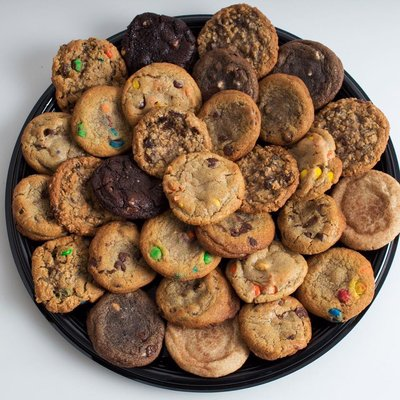salad: (196, 2, 280, 79), (162, 151, 246, 228), (313, 97, 390, 178), (297, 247, 376, 323), (51, 37, 128, 111), (140, 212, 222, 281), (121, 62, 202, 127), (225, 241, 308, 304), (156, 268, 240, 329), (164, 319, 250, 378), (338, 170, 400, 251), (238, 296, 312, 362), (120, 12, 198, 74), (71, 85, 133, 158), (237, 145, 300, 214), (277, 194, 346, 255), (197, 211, 275, 260)
